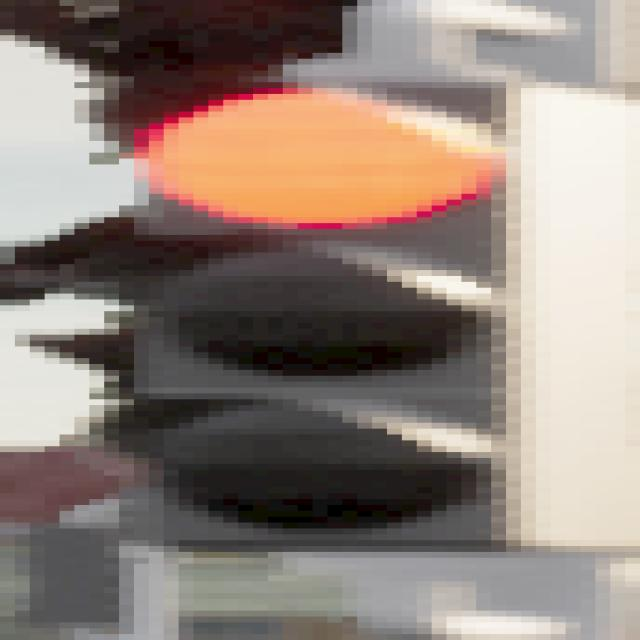red_light: (86, 81, 546, 557)
